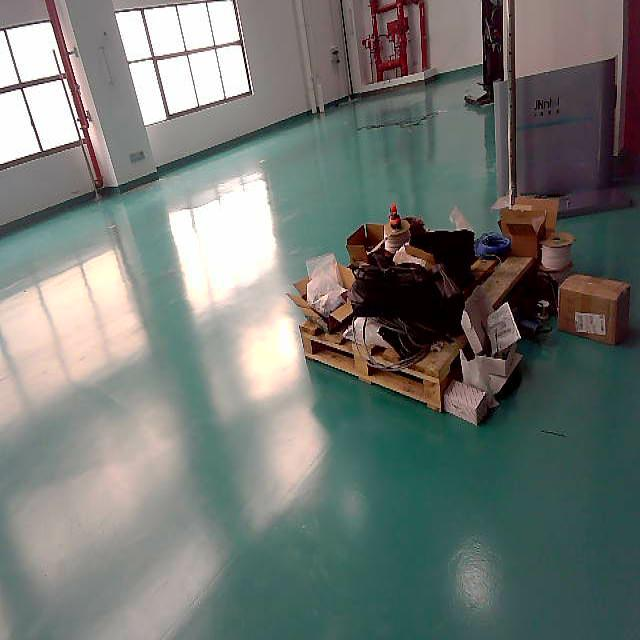euro: (306, 339, 441, 411)
